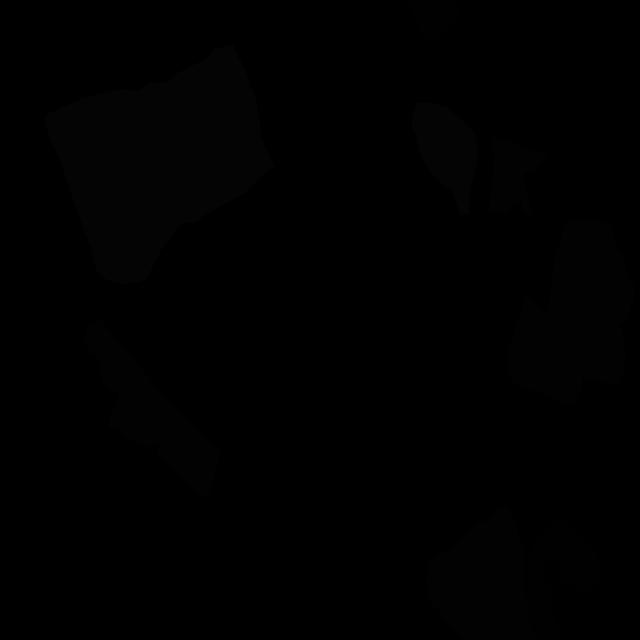cardboard: (84, 320, 221, 497), (426, 506, 538, 640), (546, 218, 635, 385), (507, 296, 582, 408), (489, 137, 548, 214)
rigid_plastic: (526, 521, 598, 640), (407, 0, 462, 44)
soft_plastic: (45, 44, 275, 284), (411, 102, 479, 214)
